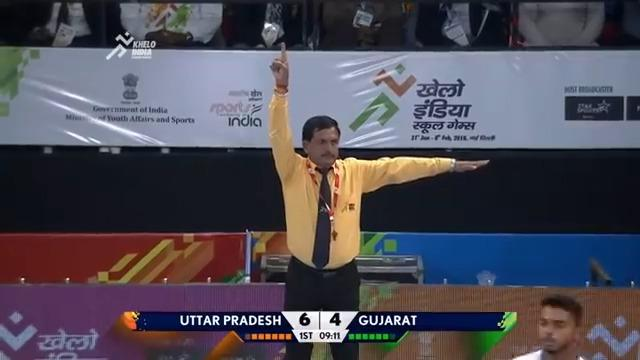Player: (510, 293, 596, 359)
referee: (263, 41, 490, 357)
